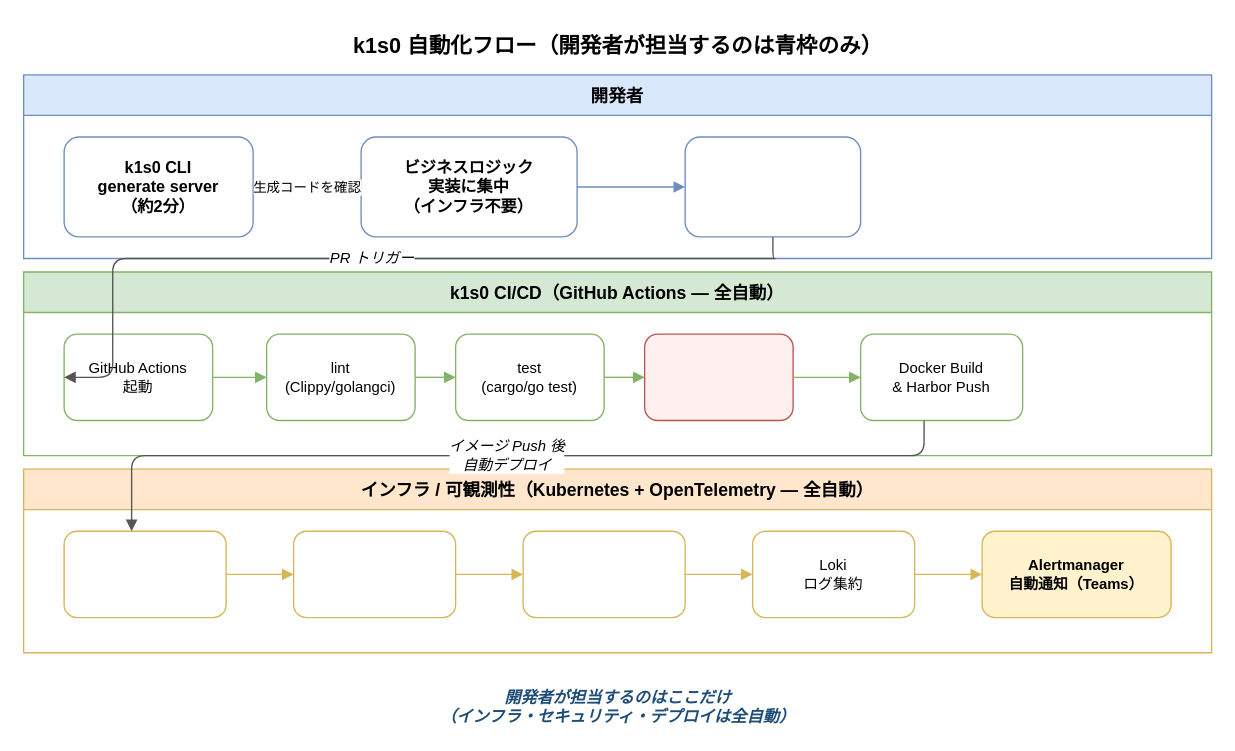
This 1235x751 diagram has some shape labels left out. Each missing label, with the centre of its shape:
"git push （PR作成）" goes at point (772, 186).
"Kubernetes 自動デプロイ" goes at point (144, 574).
"OpenTelemetry トレース収集" goes at point (374, 574).
"Prometheus + Grafana" goes at point (603, 574).
"Security Scan (Trivy/audit)" goes at point (718, 377).
